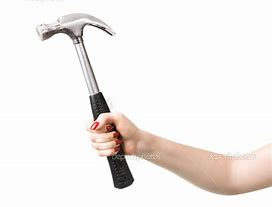hammer: (35, 12, 140, 191)
